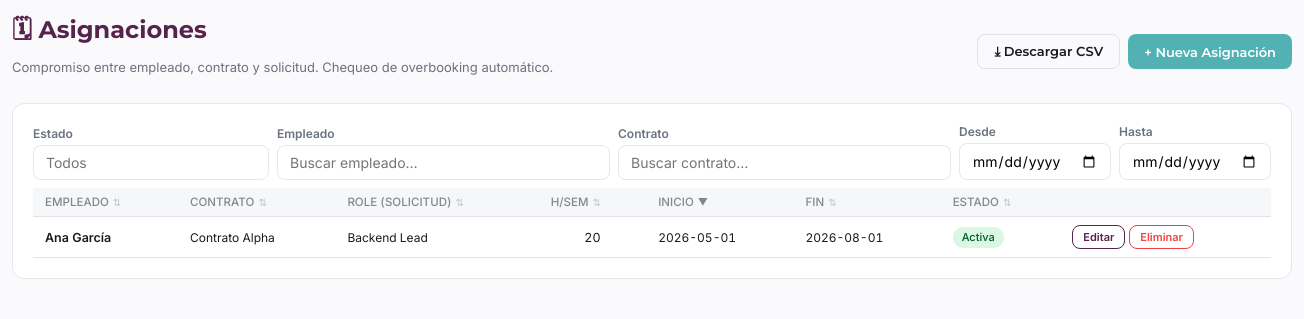
Scenario: Assignments module › SPEC-007: date_from > date_to shows an error and does NOT fetch
The width and height of the screenshot is (1304, 319).
expect the text "Ana García" is shown: met, box [33,216,178,258]
# Set a valid date_to first — this WILL trigger a fetch (expected)
In the date field named "Filtro fecha hasta": (1195, 162) [1119,143,1271,180], type "2026-04-01"
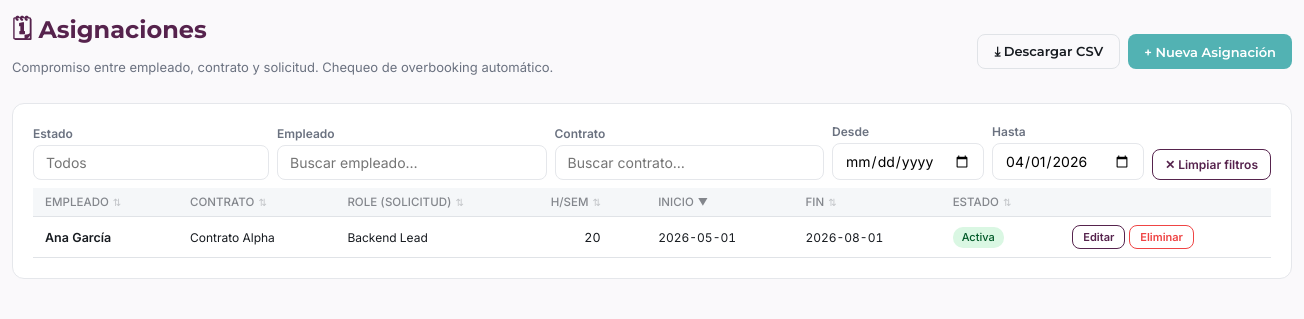
# Now set date_from AFTER date_to — invalid range — must NOT trigger a fetch
In the date field named "Filtro fecha desde": (908, 162) [832,143,984,180], type "2026-06-01"
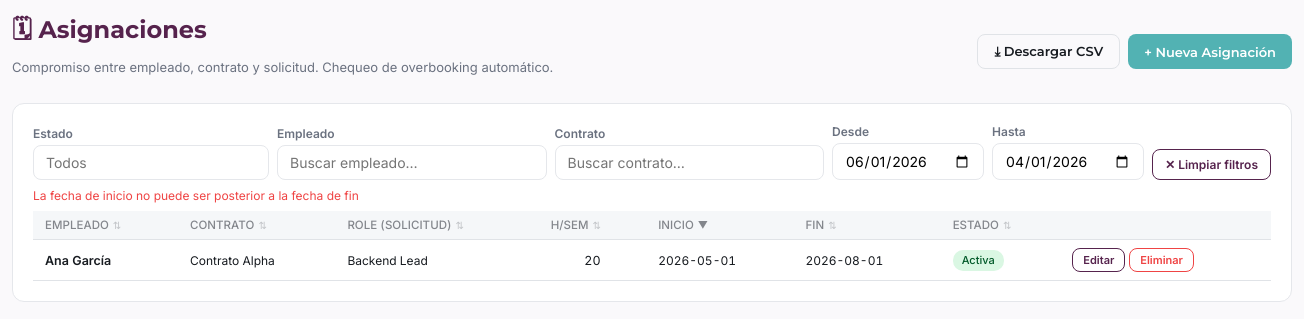
expect the message reads "La fecha de inicio no puede ser posterior a la fecha de fin": met, box [33,188,359,203]
